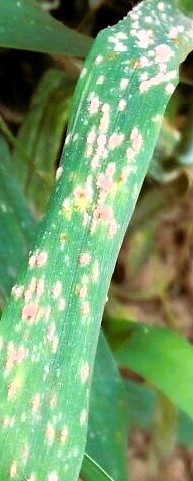Powdery Mildew: (14, 17, 188, 394)
